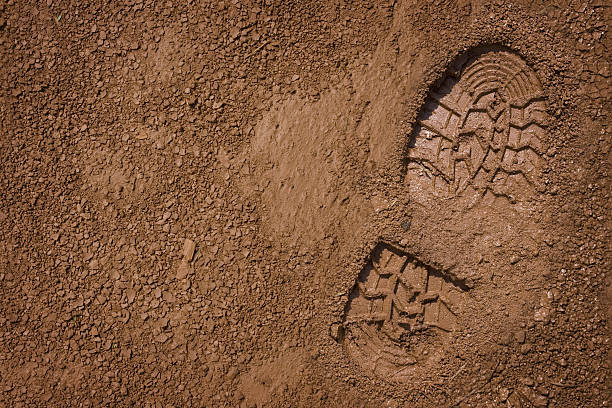human_foot_print: (332, 34, 566, 384)
